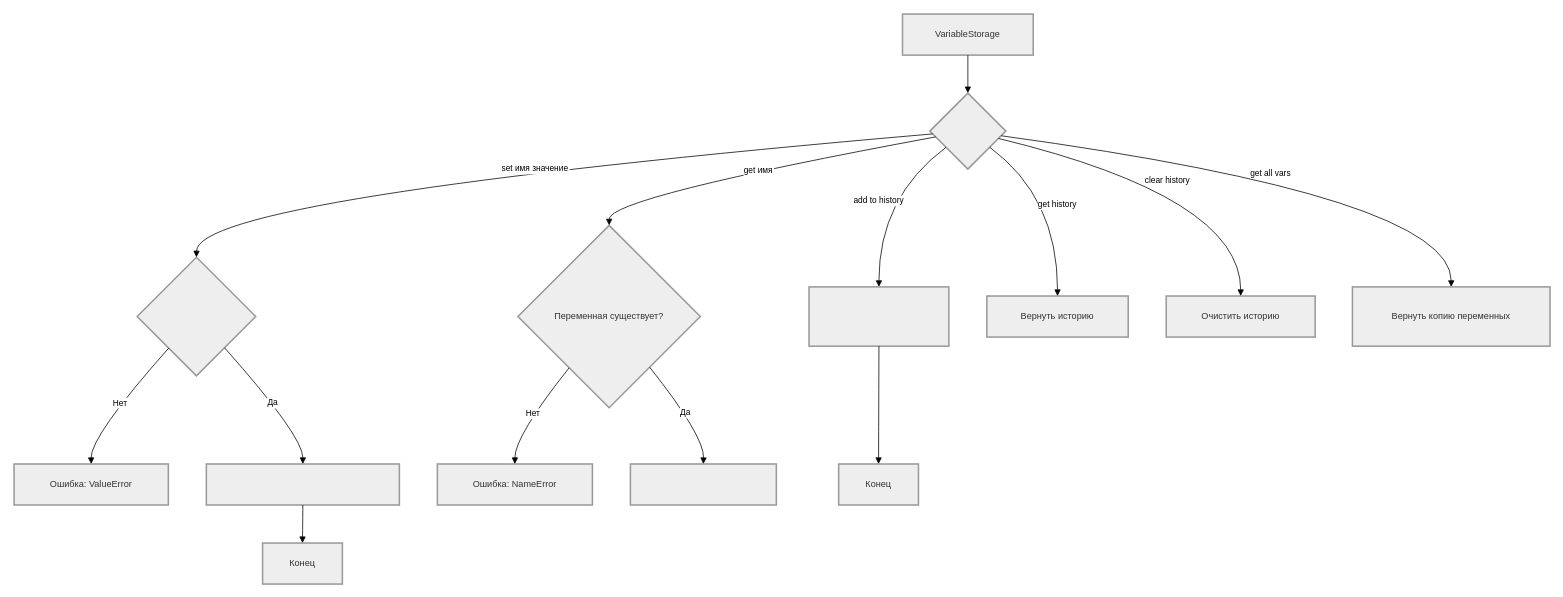
Some shapes in this 1563 by 597 pixel diagram are drawn without their labels. The shapes that lost their labels are listed below. From the top down, each one's centre as x and y in pixels, then its label:
[967,130]: Метод
[196,316]: Имя валидно?
[878,316]: Добавить запись в историю
[302,484]: сохранить в словарь _vars
[703,484]: Вернуть значение
